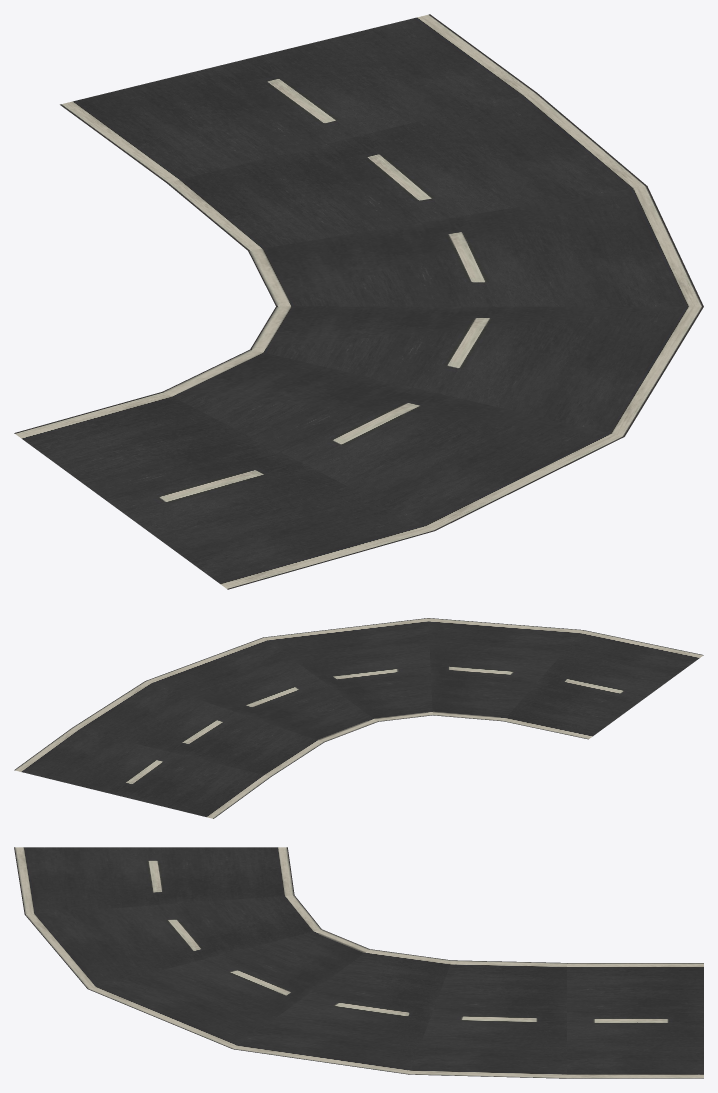
The model's file is roadCurve2.glb.
3 views of the same model, one above another, from view 1: azimuth 30°, elevation 25°; view 2: azimuth 150°, elevation 25°; view 3: azimuth 270°, elevation 25° (orthographic). The views are drawn at different scales.
Parts seen in each view (by area): view 1: Plane; view 2: Plane; view 3: Plane.
Part boxes in pixels (x1=…): Plane: x1=14, y1=14, x2=703, y2=589; Plane: x1=14, y1=618, x2=703, y2=818; Plane: x1=14, y1=847, x2=703, y2=1078.
Size of the model in its own units: 4 by 5.96e-08 by 5.04.
1 material, 1 textured.
